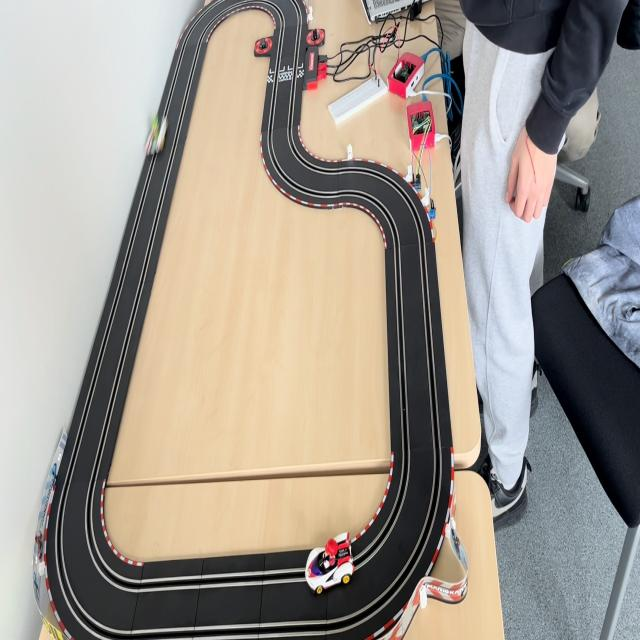mario: (304, 528, 359, 598)
yoshi: (142, 113, 170, 156)
